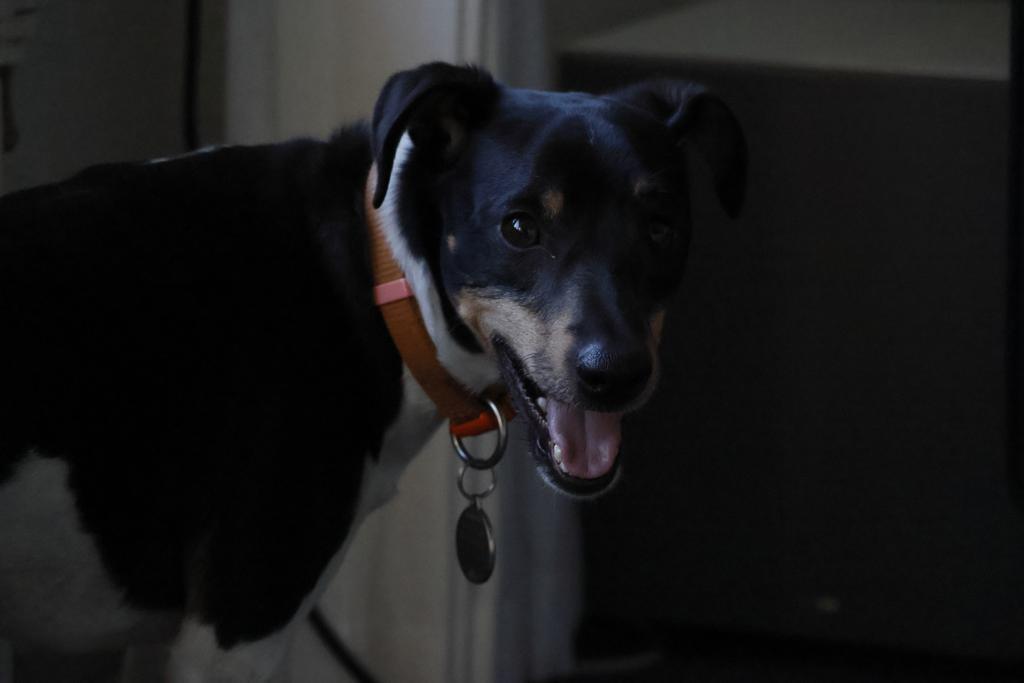Dog: (0, 44, 778, 683)
